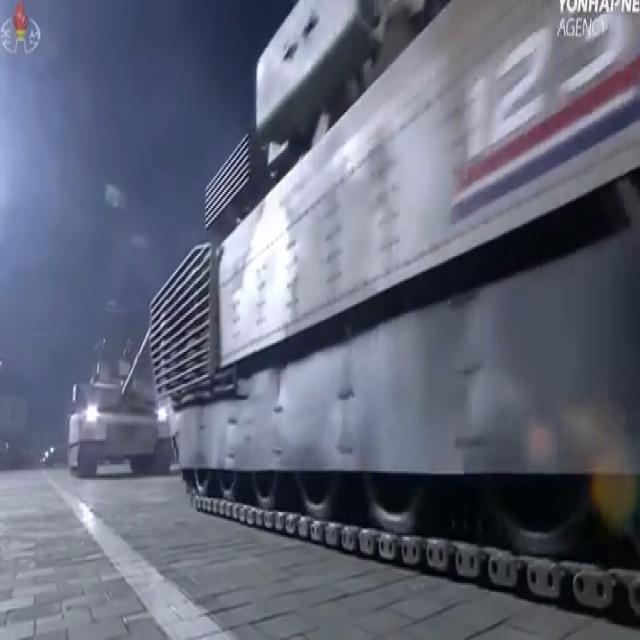north tank: (149, 0, 640, 640), (57, 307, 184, 501)
